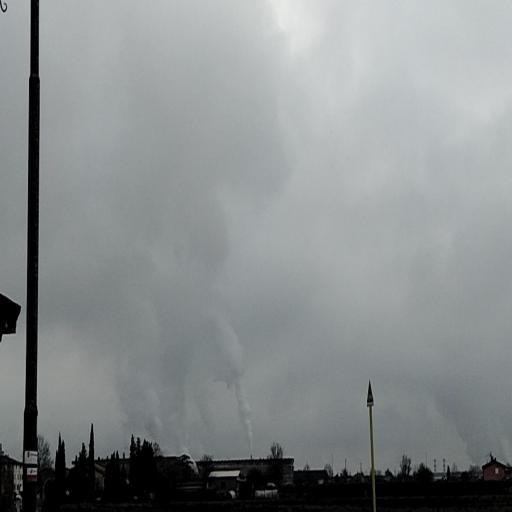leakage: (113, 263, 257, 476)
